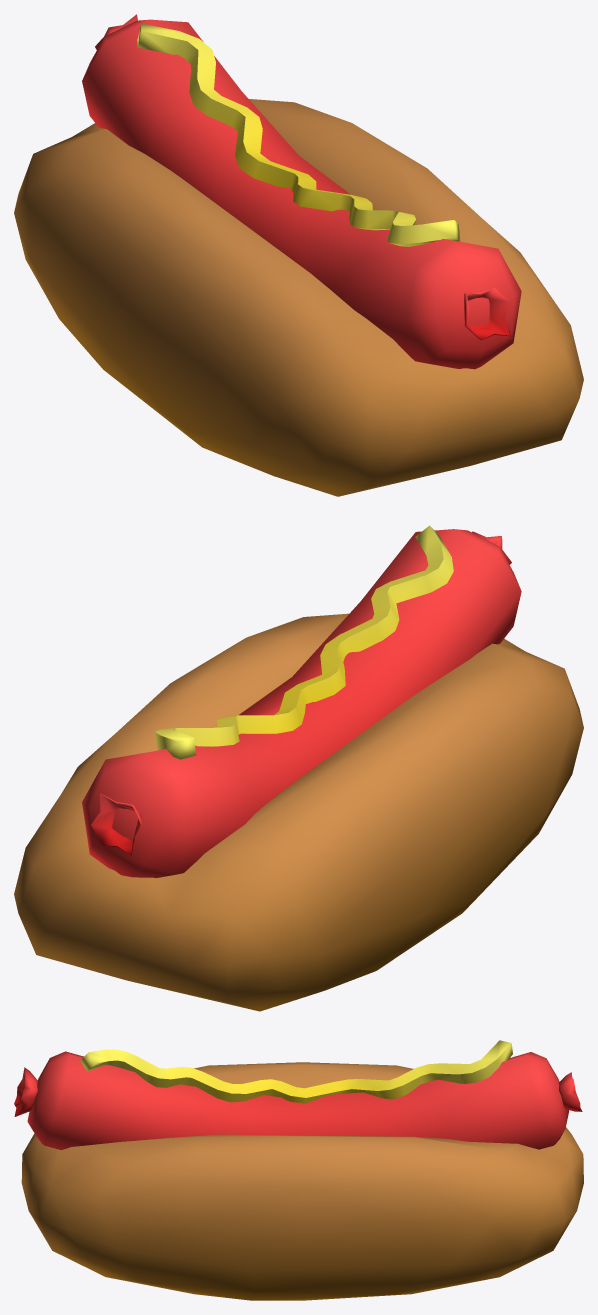
File: hotdog.fbx
The picture shows the model from 3 angles, top to bottom: view 1: azimuth 30°, elevation 25°; view 2: azimuth 150°, elevation 25°; view 3: azimuth 270°, elevation 25°; orthographic projection. The views are drawn at different scales.
Parts seen in each view (by area): view 1: hotdog; view 2: hotdog; view 3: hotdog.
Boxes of the visible parts, x1,y1,x2,y2 form: hotdog: [14, 14, 583, 496]; hotdog: [14, 525, 583, 1011]; hotdog: [14, 1040, 583, 1300].
Size of the model in its own units: 66.46 by 57.6 by 137.
